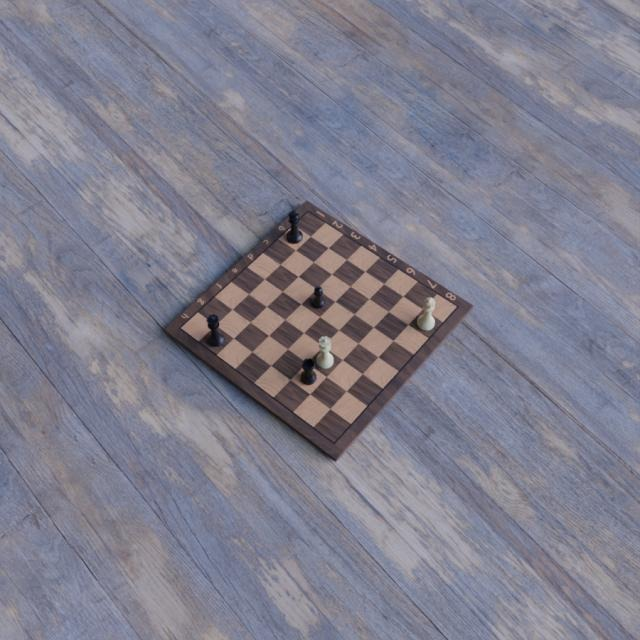black-king: (284, 207, 303, 245)
black-pawn: (310, 285, 326, 311)
black-queen: (205, 312, 224, 348)
black-rook: (300, 357, 316, 385)
white-king: (415, 294, 437, 333)
white-queen: (317, 335, 333, 373)
